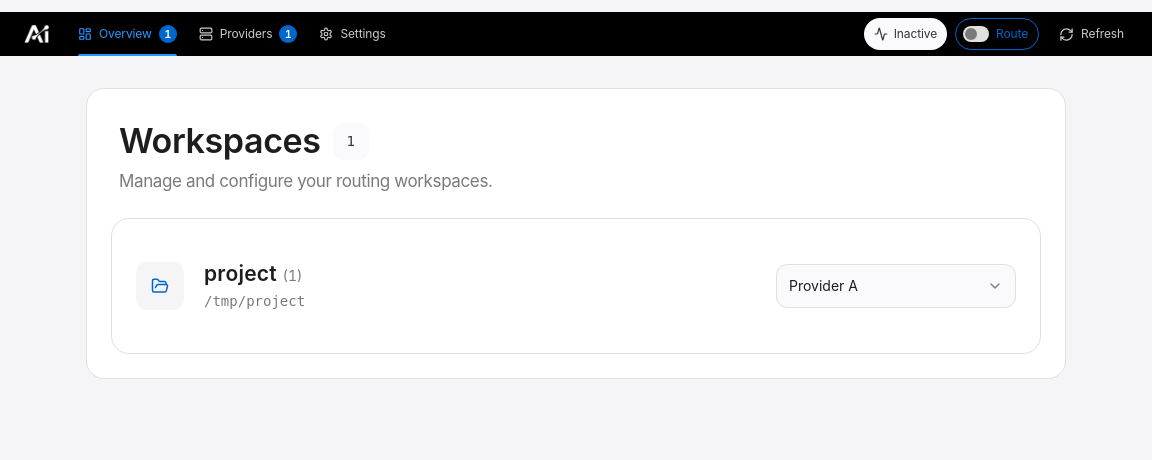
App › renders the desktop client toolbar and provider workspace
The image size is (1152, 460).
Expected: the header named "Codex Route navigation" is shown, [0,12,1151,56]
Expected: the number of pictures with class "brand-logo" is 1, [24,22,48,46]
Step 1. Click the tab "Providers 1" → (248, 34), box [197,12,299,56]
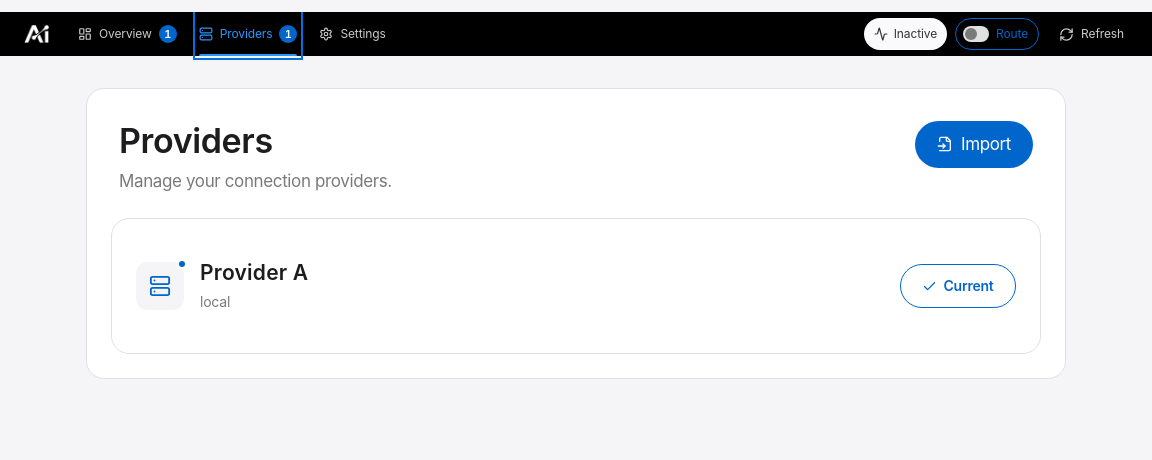
Expected: the 2nd text with class "nav-count" reads "1", [285,26,292,40]
Expected: the element "Providers" is shown, [86,88,1066,379]
